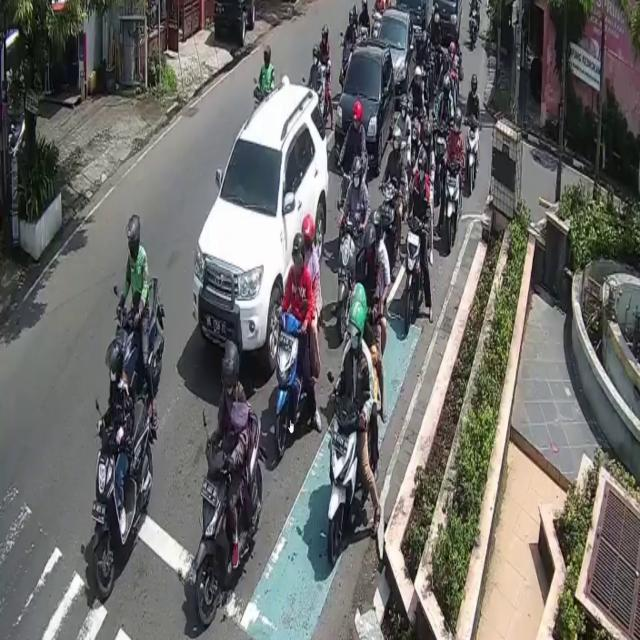car: (192, 80, 328, 374), (334, 39, 395, 177), (374, 5, 417, 107)
motorbike: (198, 410, 264, 627), (97, 395, 153, 601), (329, 393, 360, 559), (115, 281, 164, 384), (276, 315, 303, 455), (404, 213, 426, 335), (338, 221, 357, 340), (443, 156, 460, 244), (467, 116, 479, 192)
